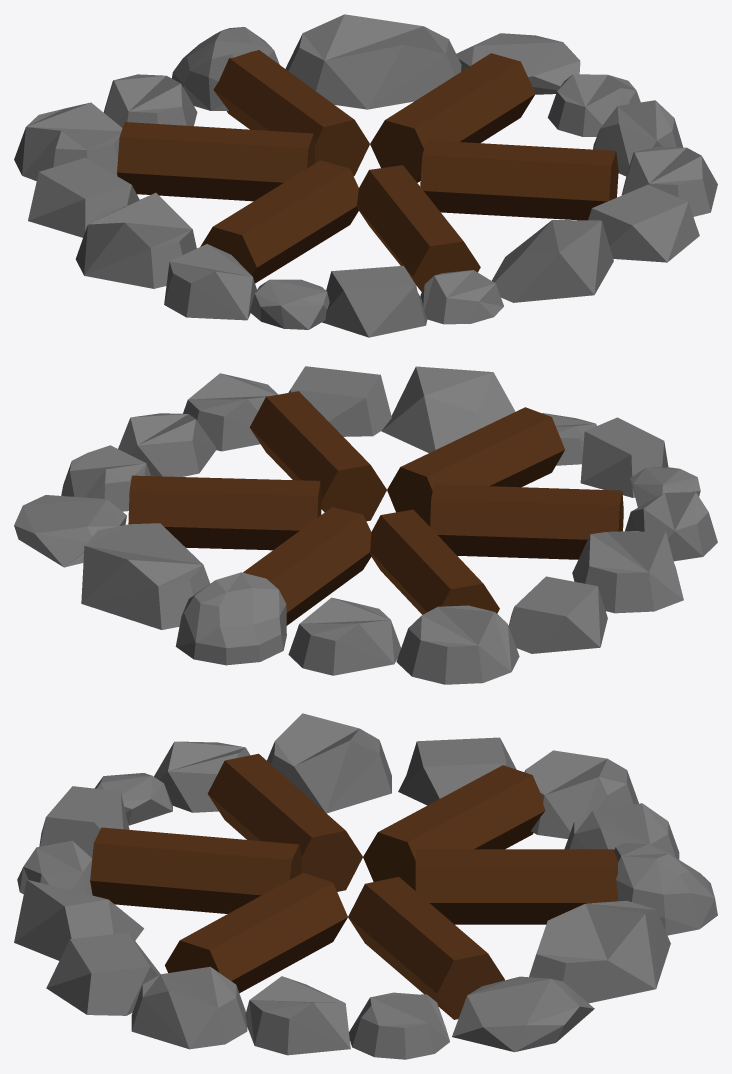
File: Bonfire Unlit 1.fbx
3 views of the same model, one above another, from view 1: azimuth 30°, elevation 25°; view 2: azimuth 150°, elevation 25°; view 3: azimuth 270°, elevation 25° (orthographic). The views are drawn at different scales.
Visible parts, largest first — view 1: Bonfire_1_Unlit; view 2: Bonfire_1_Unlit; view 3: Bonfire_1_Unlit.
Boxes of the visible parts, <box> form: Bonfire_1_Unlit: <box>14,14,717,337</box>; Bonfire_1_Unlit: <box>14,366,717,684</box>; Bonfire_1_Unlit: <box>14,713,717,1059</box>.
Bounding box in the file's own units: 215 × 22.57 × 211.
1 material, 1 textured.
